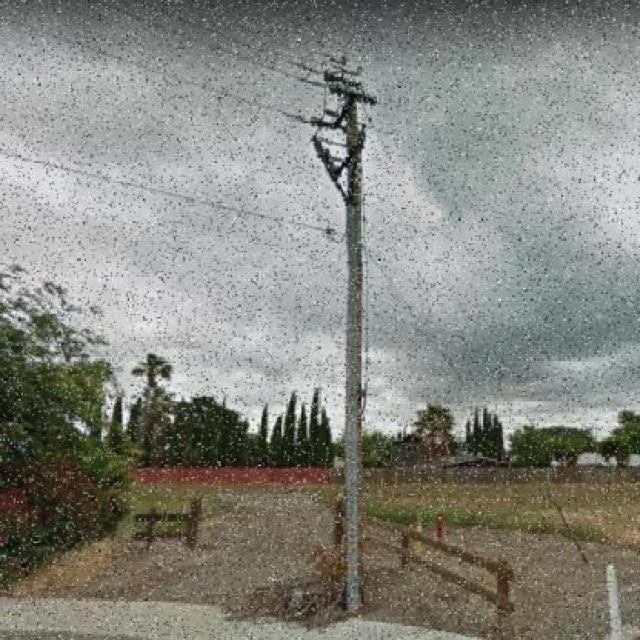pole: (260, 25, 400, 633)
